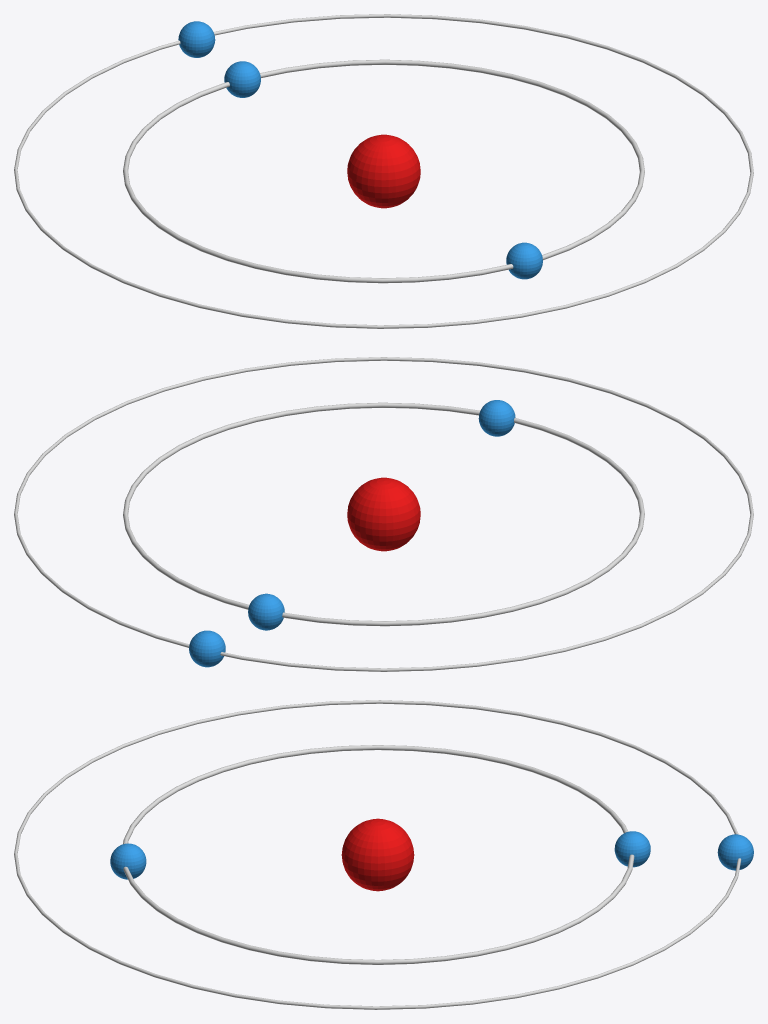
File: lithiumreal.glb
3 renders of one model, top to bottom at view 1: azimuth 30°, elevation 25°; view 2: azimuth 150°, elevation 25°; view 3: azimuth 270°, elevation 25°, orthographic.
Parts seen in each view (by area): view 1: BézierCircle.002, BézierCircle, Sphere, Sphere.006, Sphere.003, Sphere.001; view 2: BézierCircle.002, BézierCircle, Sphere, Sphere.001, Sphere.003, Sphere.006; view 3: BézierCircle.002, BézierCircle, Sphere, Sphere.006, Sphere.003, Sphere.001.
Boxes of the visible parts, x1,y1,x2,y2 form: BézierCircle.002: [14, 14, 753, 328]; BézierCircle: [123, 59, 644, 283]; Sphere: [347, 134, 420, 208]; Sphere.006: [178, 21, 215, 57]; Sphere.003: [224, 61, 260, 97]; Sphere.001: [506, 242, 542, 279]; BézierCircle.002: [14, 357, 753, 671]; BézierCircle: [123, 402, 644, 626]; Sphere: [347, 477, 420, 551]; Sphere.001: [478, 400, 515, 436]; Sphere.003: [248, 593, 284, 630]; Sphere.006: [189, 630, 225, 667]; BézierCircle.002: [14, 700, 741, 1009]; BézierCircle: [123, 745, 634, 964]; Sphere: [341, 818, 414, 891]; Sphere.006: [717, 834, 753, 870]; Sphere.003: [614, 831, 650, 867]; Sphere.001: [110, 843, 146, 879].
Size of the model in its own units: 20.07 by 2 by 20.4.
